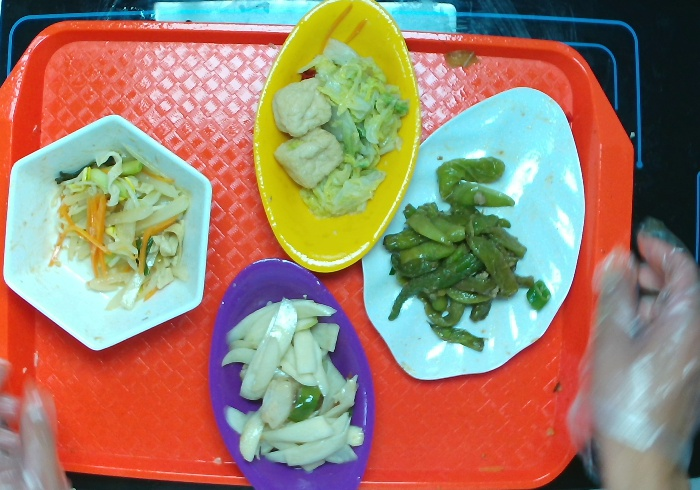RJxy-Bai_Ye_Pan: (355, 83, 586, 383)
RJxy-Fen_Hong_Tuo_Yuan: (207, 258, 377, 490)
RJxy-Huang_Se_Tuo_Yuan: (250, 1, 425, 276)
RJxy-Liu_Jiao_Wan: (1, 113, 214, 353)
